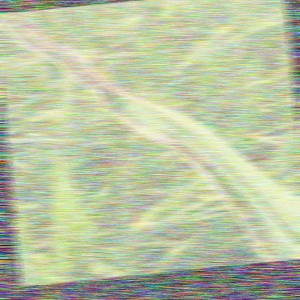Leaf_Blast: (106, 74, 200, 171)
